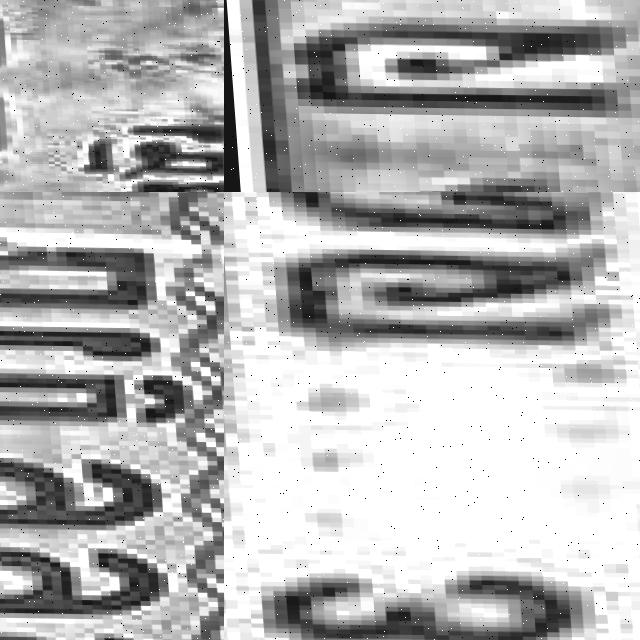license-plate: (224, 192, 640, 640), (0, 192, 224, 640), (224, 0, 640, 192), (0, 0, 224, 192)
